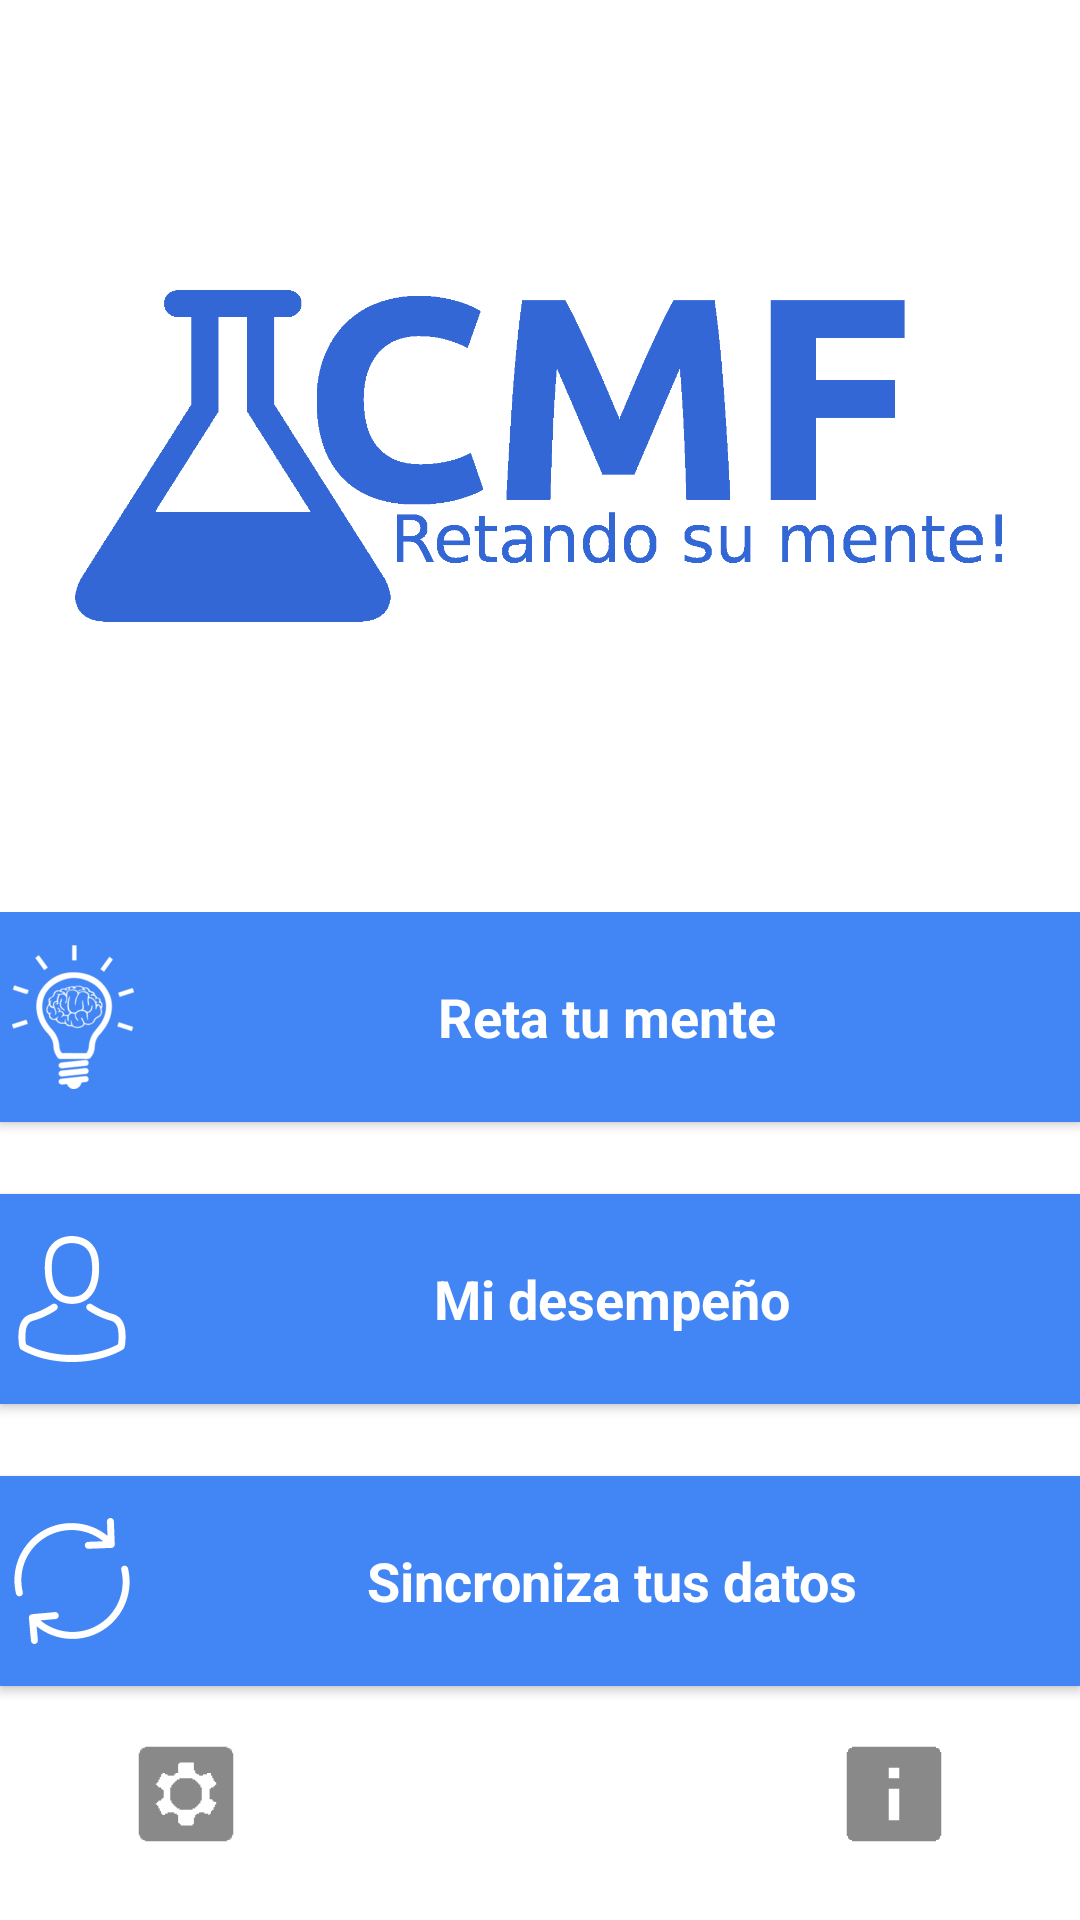

Locate icon controls on the screen. Image size 1080px x 1920px, boxes as (x1, y1, x2, y2).
info: (846, 1746, 942, 1842)
settings: (138, 1746, 234, 1842)
